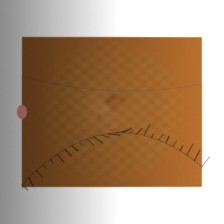pinguecula_lesion: (154, 105, 190, 134)
